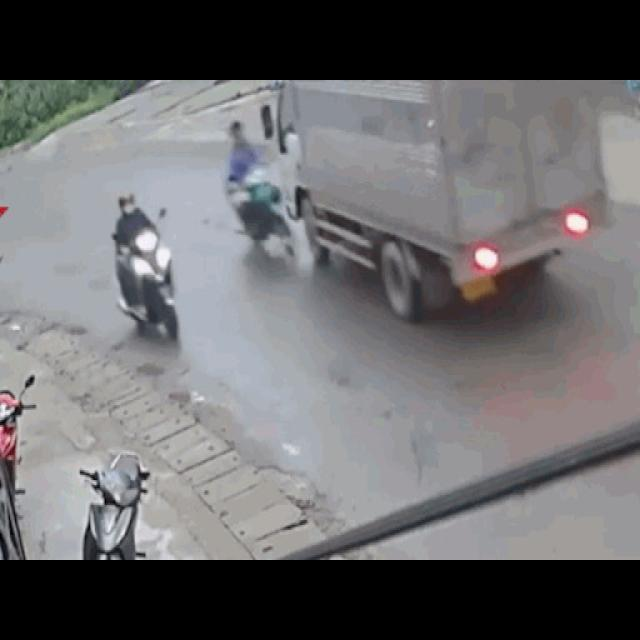multiple_accident: (220, 84, 615, 332)
normal: (89, 166, 204, 371), (213, 107, 304, 277)
